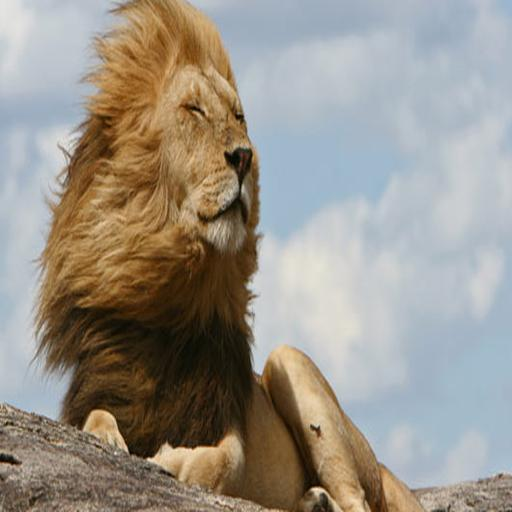Lion: (21, 0, 443, 512)
